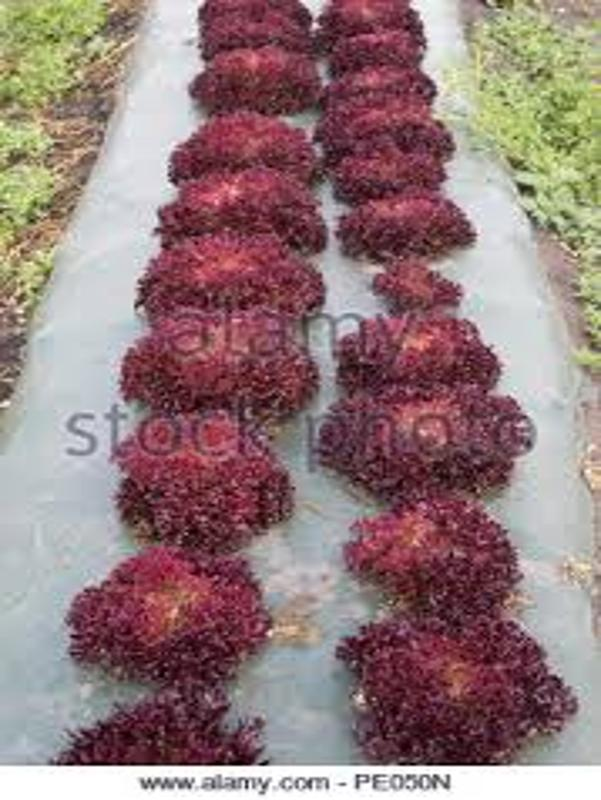red lettuce: (348, 618, 556, 760), (64, 545, 281, 678), (122, 410, 293, 549), (321, 390, 539, 495), (355, 491, 517, 620), (130, 318, 323, 407), (141, 236, 330, 324), (74, 684, 261, 764), (156, 170, 329, 245), (339, 316, 497, 398), (172, 112, 319, 176), (195, 45, 320, 115), (344, 195, 469, 257), (325, 97, 453, 155), (369, 257, 464, 318), (327, 64, 437, 108), (202, 7, 311, 50), (335, 150, 448, 191), (333, 24, 418, 68)
